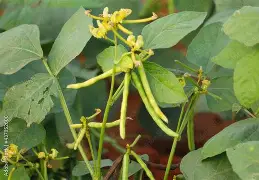crops: (0, 2, 256, 179)
